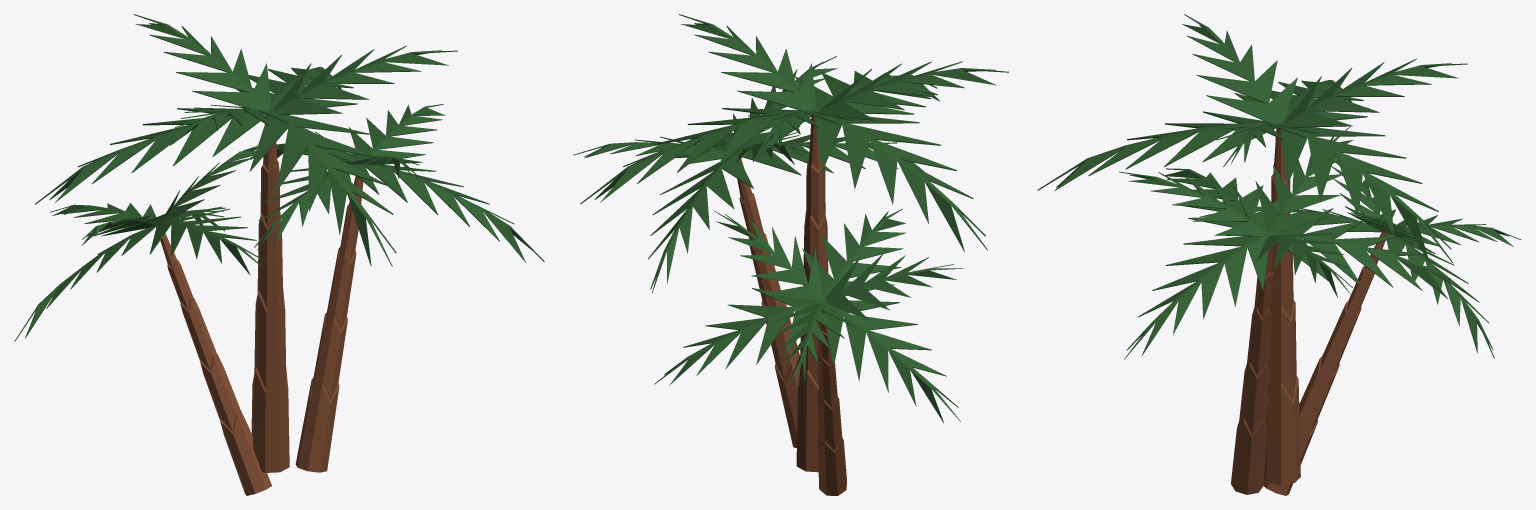
The model's file is palmera_3.fbx.
3 renders of one model, left to right at view 1: azimuth 30°, elevation 25°; view 2: azimuth 150°, elevation 25°; view 3: azimuth 270°, elevation 25°, orthographic.
Parts seen in each view (by area): view 1: palmera_3; view 2: palmera_3; view 3: palmera_3.
Boxes of the visible parts, x1,y1,x2,y2 form: palmera_3: (14,14,544,495); palmera_3: (573,14,1008,495); palmera_3: (1037,14,1521,495).
Size of the model in its own units: 5.49 by 5.36 by 5.6.
